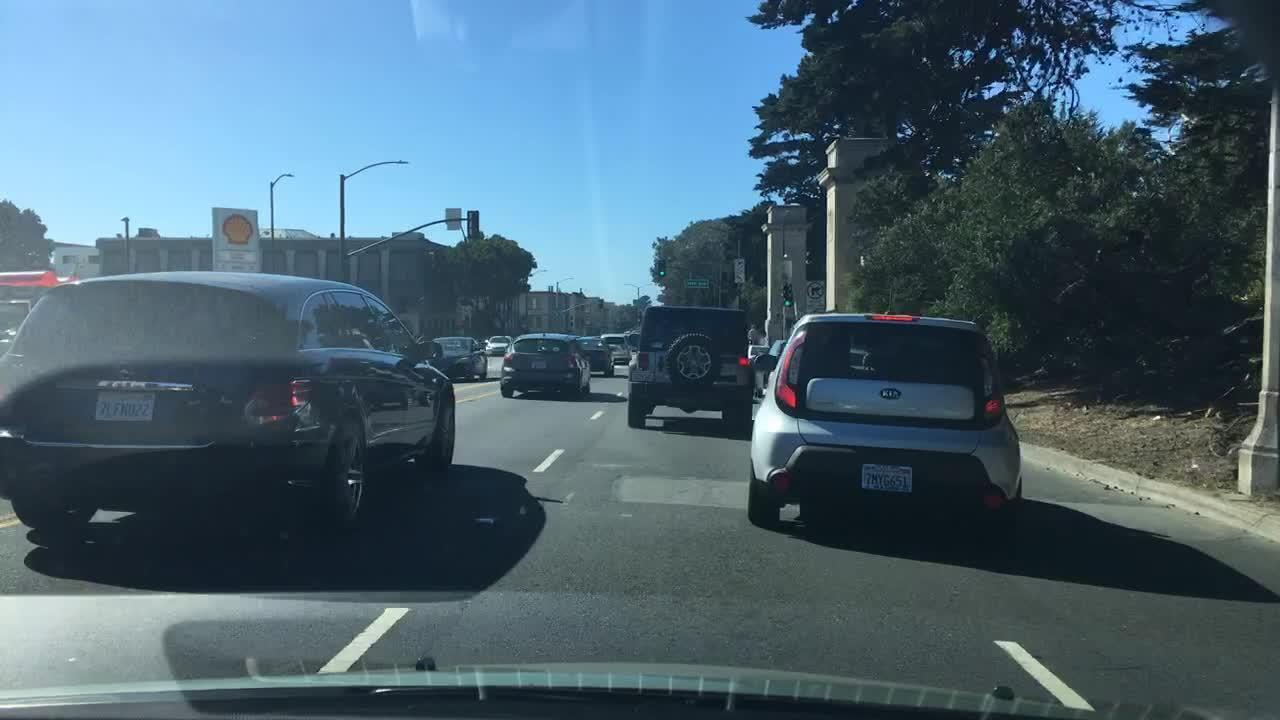kia: (869, 381, 915, 406)
